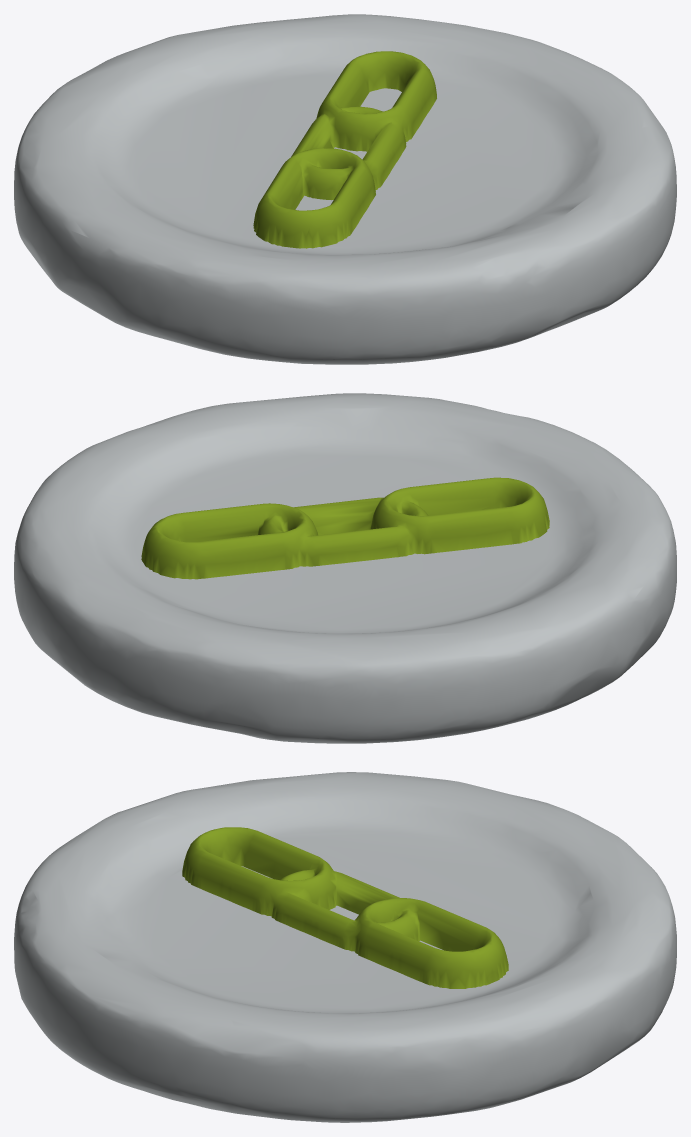
Rendered from token-warlock-blue-draco.glb.
3 renders of one model, top to bottom at view 1: azimuth 30°, elevation 25°; view 2: azimuth 150°, elevation 25°; view 3: azimuth 270°, elevation 25°, orthographic.
Parts seen in each view (by area): view 1: token_warlock_blue; view 2: token_warlock_blue; view 3: token_warlock_blue.
Part boxes in pixels (x1,y1,x2,y2): token_warlock_blue: (14,14,676,364); token_warlock_blue: (14,393,676,743); token_warlock_blue: (14,772,676,1122).
Bounding box in the file's own units: 0.414 × 0.0714 × 0.414.
